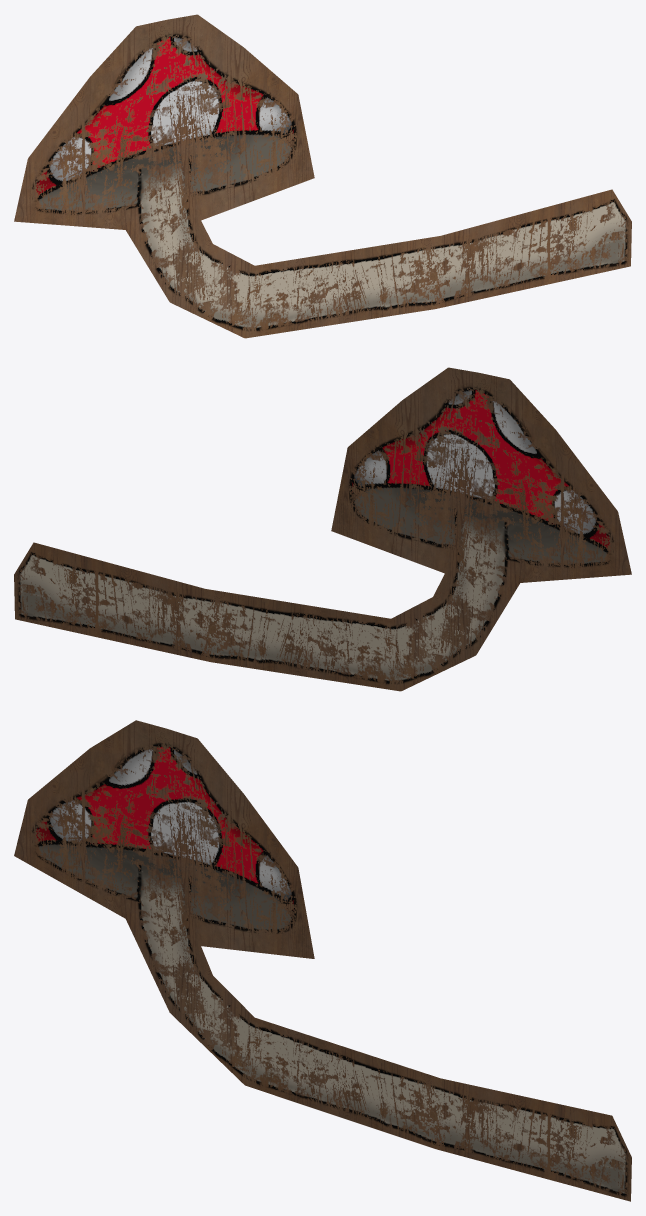
The model's file is Hongote.fbx.
3 views of the same model, one above another, from view 1: azimuth 30°, elevation 25°; view 2: azimuth 150°, elevation 25°; view 3: azimuth 330°, elevation 25° (orthographic).
Visible parts, largest first — view 1: Plane.001; view 2: Plane.001; view 3: Plane.001.
Part boxes in pixels (<box>): Plane.001: <box>14,14,631,338</box>; Plane.001: <box>14,367,631,691</box>; Plane.001: <box>14,720,631,1201</box>.
Size of the model in its own units: 184 by 103 by 4.5e-06.
Materials: 1 (1 with a texture image).
